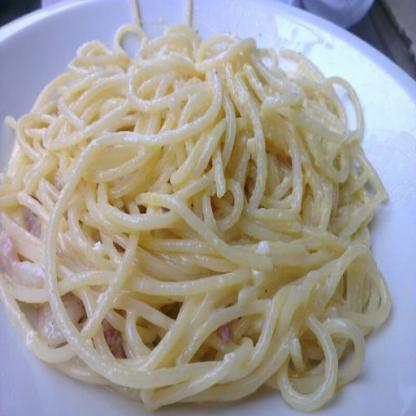Noodles: (0, 20, 393, 415)
